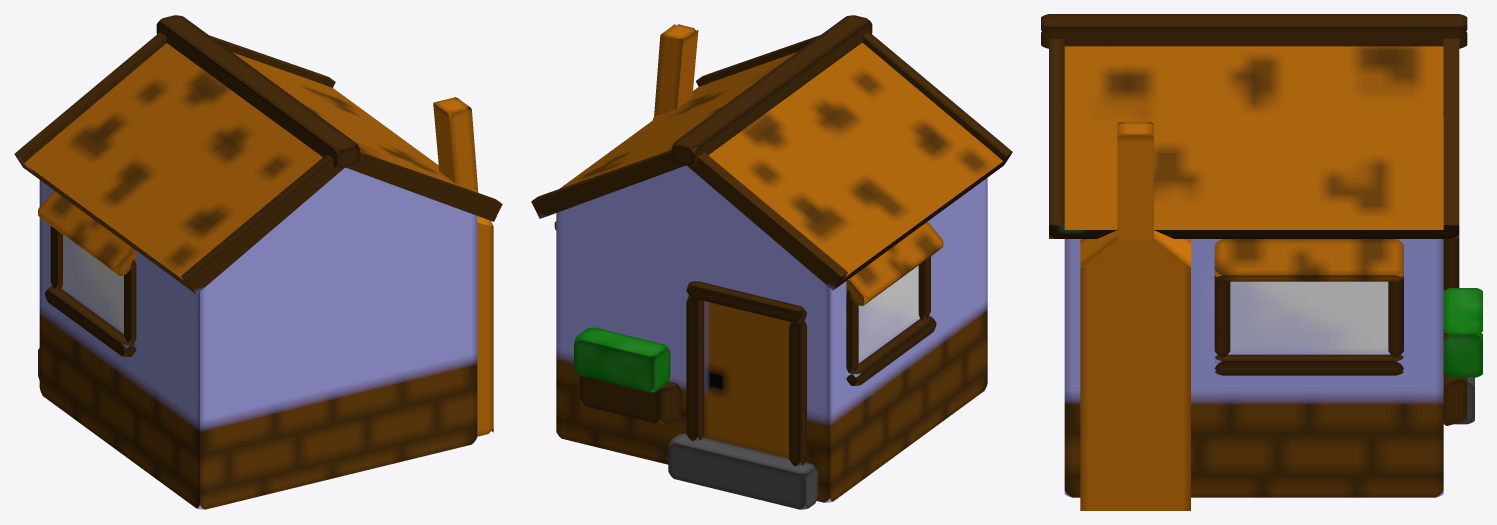
File: casa.obj
3 renders of one model, left to right at view 1: azimuth 30°, elevation 25°; view 2: azimuth 150°, elevation 25°; view 3: azimuth 270°, elevation 25°, orthographic. The views are drawn at different scales.
Parts seen in each view (by area): view 1: mesh, cube; view 2: mesh, cube; view 3: mesh, cube.
Boxes of the visible parts, x1,y1,x2,y2 form: mesh: (14,15,502,509); cube: (38,97,493,436); mesh: (531,15,1012,502); cube: (574,24,818,509); mesh: (1041,14,1467,497); cube: (1080,122,1482,510).
Bounding box in the file's own units: 1.74 × 1.73 × 1.75.
1 material, 1 textured.
